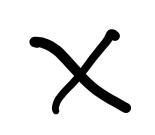mult: (30, 28, 131, 115)
